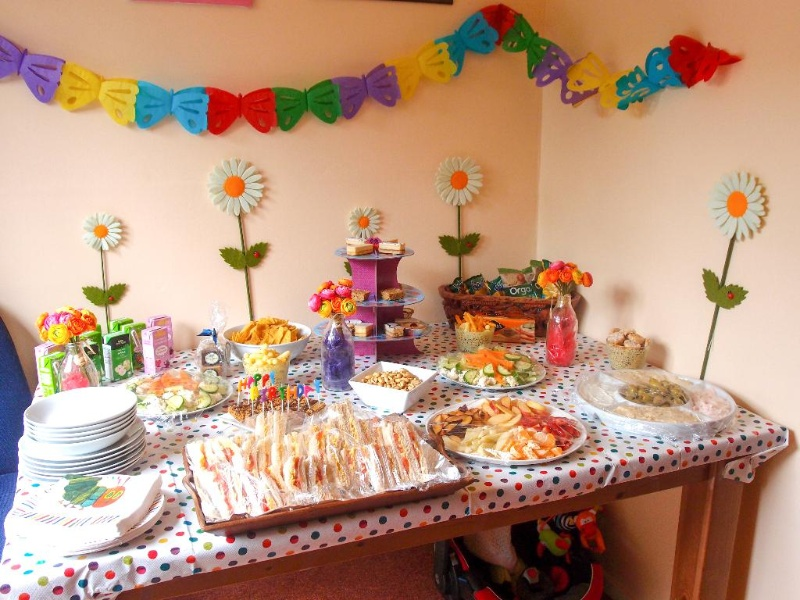dining table: (17, 288, 748, 600)
